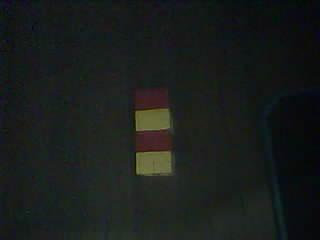lego: (133, 87, 175, 176)
